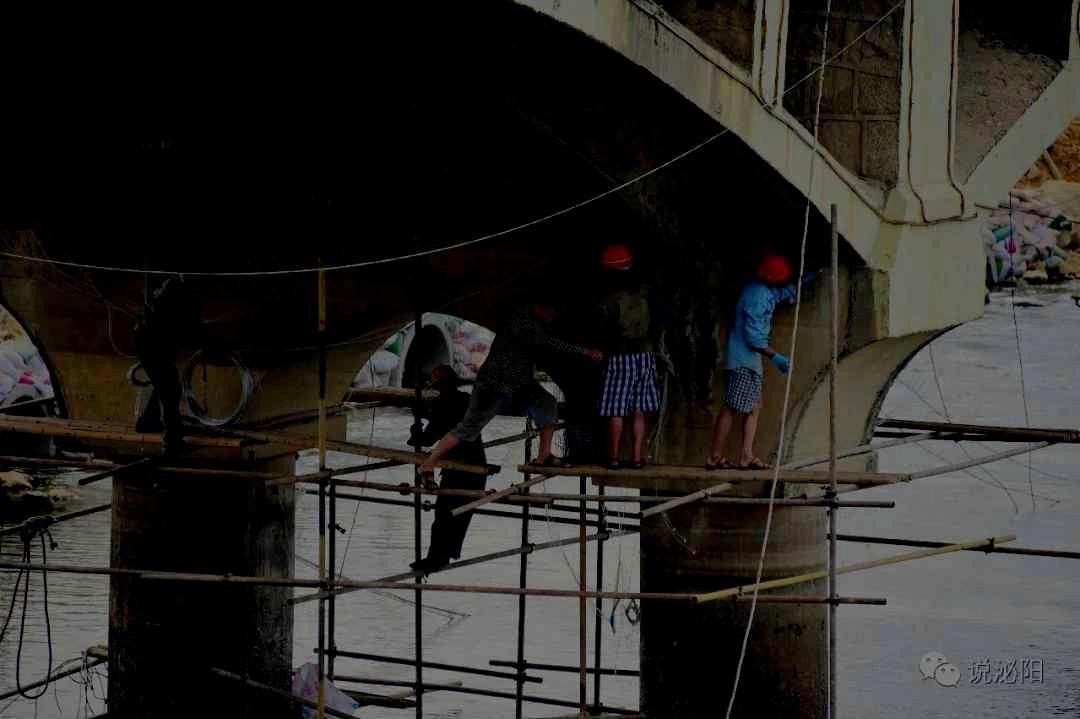helmet: (757, 253, 791, 283), (430, 364, 459, 396), (601, 242, 631, 270)
